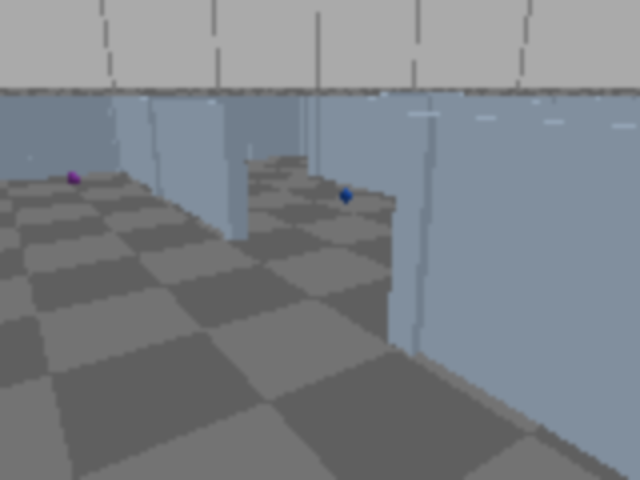puck: (63, 172, 85, 187)
